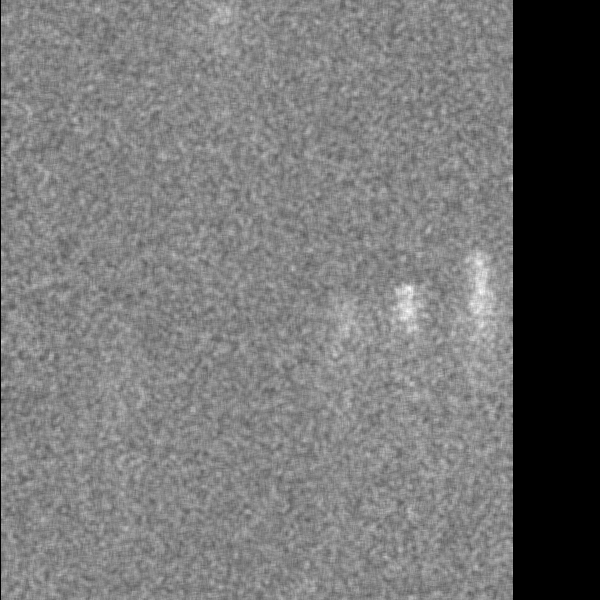spark: (469, 236, 496, 405), (394, 280, 417, 400), (336, 295, 356, 355), (213, 2, 235, 31)
